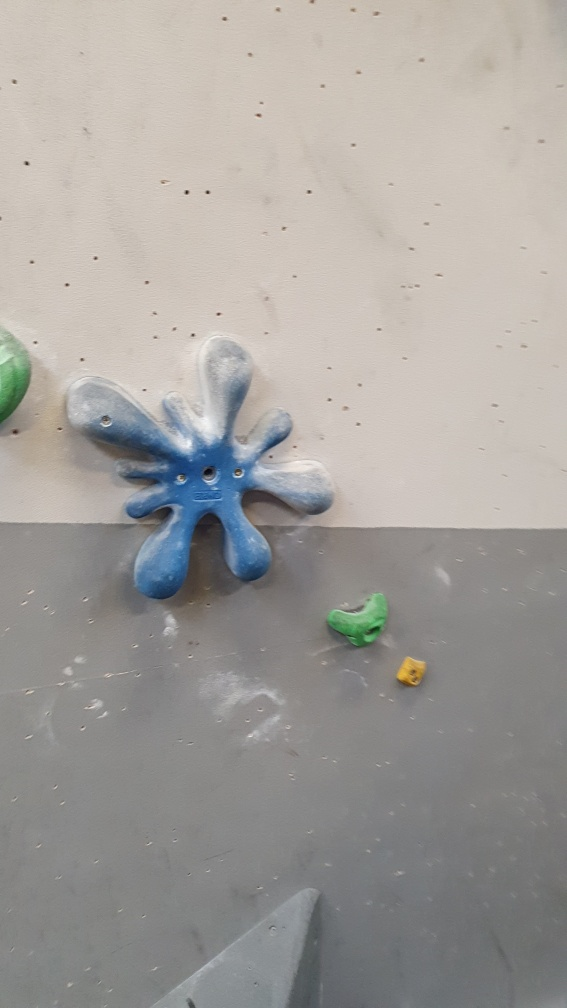Jug: (327, 584, 391, 649)
Octopus Pinch: (63, 334, 340, 604)
